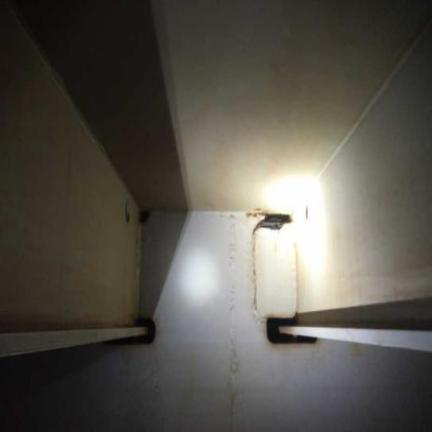besi_tidak_karat: (0, 213, 431, 431), (152, 0, 431, 210), (0, 0, 140, 332), (299, 23, 431, 312)
